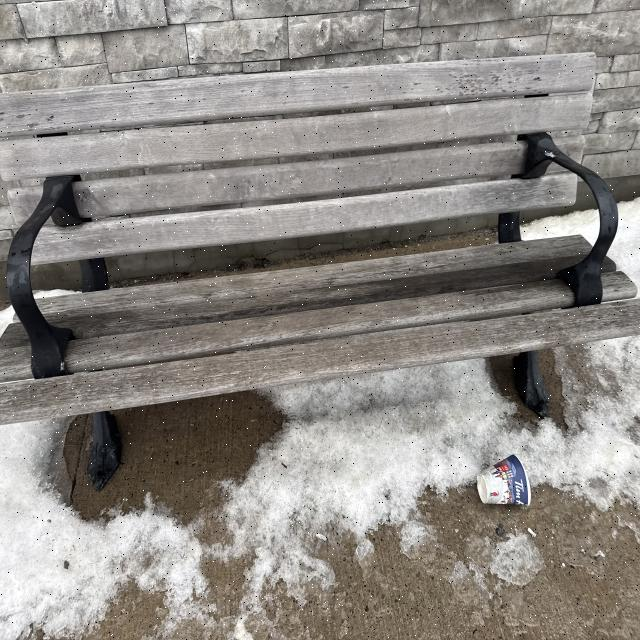Bench: (8, 49, 625, 423)
